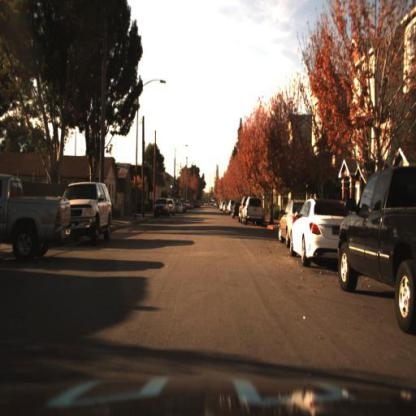car: (339, 165, 416, 338), (2, 174, 76, 273), (290, 198, 354, 268), (66, 181, 115, 244), (243, 197, 264, 226)
